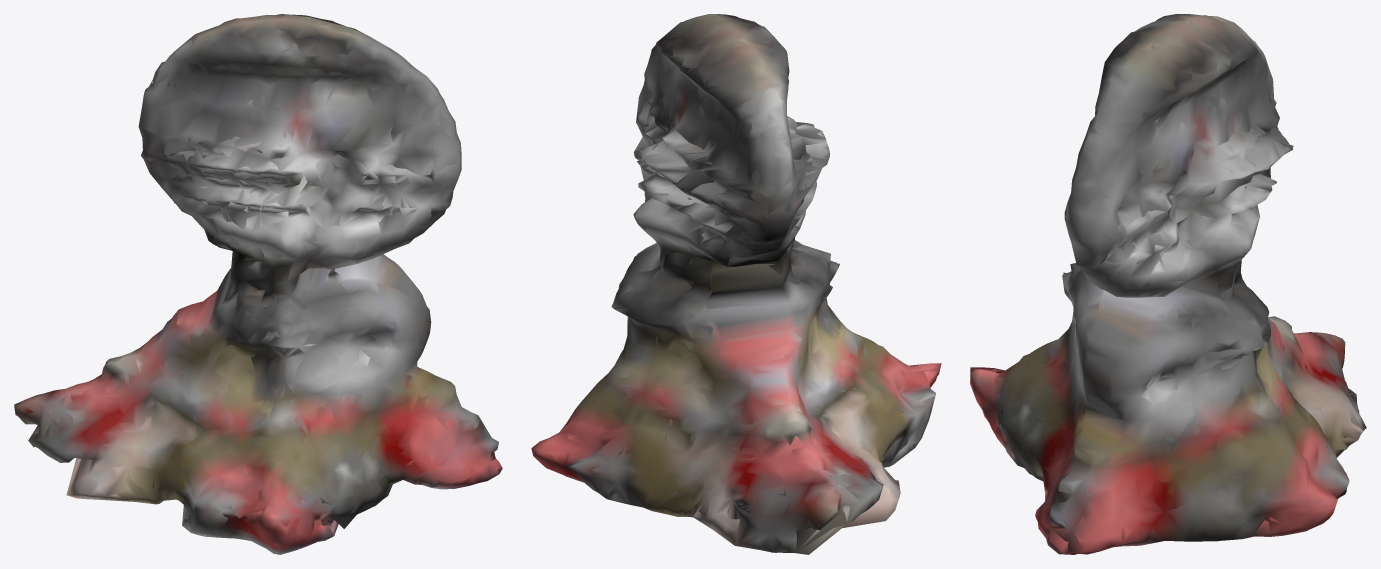
The model's file is soviet_radar_tower.glb.
The picture shows the model from 3 angles, left to right: view 1: azimuth 30°, elevation 25°; view 2: azimuth 150°, elevation 25°; view 3: azimuth 270°, elevation 25°; orthographic projection. The views are drawn at different scales.
Parts seen in each view (by area): view 1: soviet_radar_tower; view 2: soviet_radar_tower; view 3: soviet_radar_tower.
Part boxes in pixels (x1=…): soviet_radar_tower: x1=14, y1=14, x2=502, y2=554; soviet_radar_tower: x1=531, y1=14, x2=941, y2=554; soviet_radar_tower: x1=970, y1=14, x2=1366, y2=554.
Bounding box in the file's own units: 1.29 × 1.59 × 1.26.
